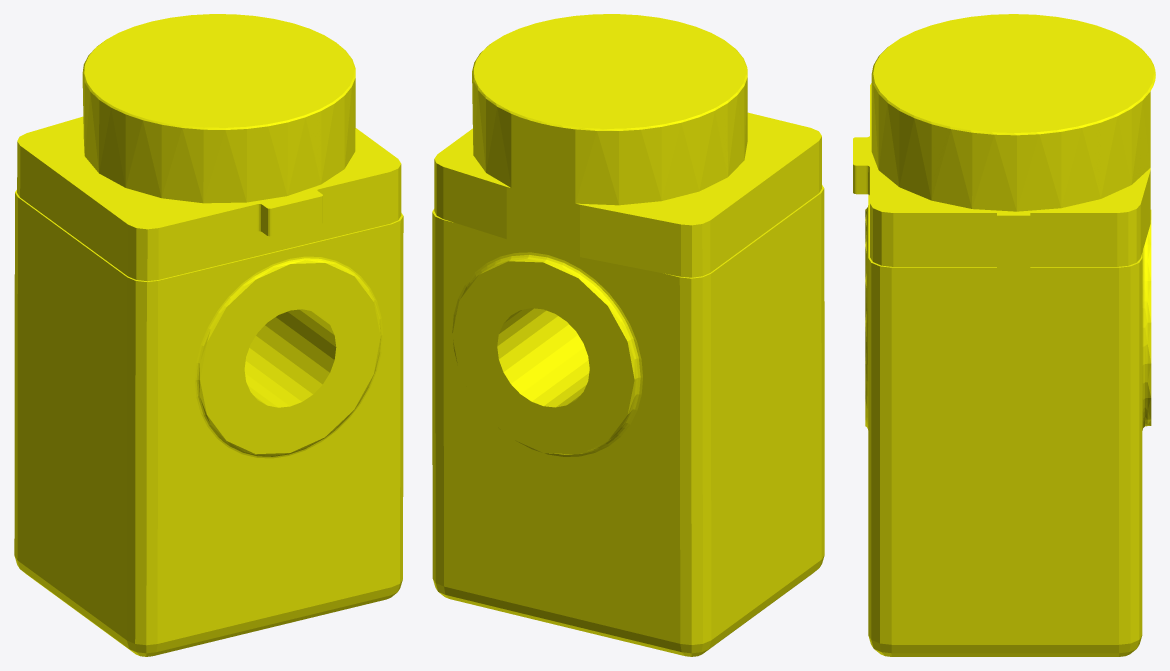
3 renders of one model, left to right at view 1: azimuth 30°, elevation 25°; view 2: azimuth 150°, elevation 25°; view 3: azimuth 270°, elevation 25°, orthographic. The views are drawn at different scales.
Parts seen in each view (by area): view 1: node; view 2: node; view 3: node.
Part boxes in pixels (bbox=[...]): node: bbox=[14, 14, 403, 656]; node: bbox=[432, 14, 824, 656]; node: bbox=[853, 14, 1155, 656].
Size of the model in its own units: 99.39 by 174 by 90.5.
